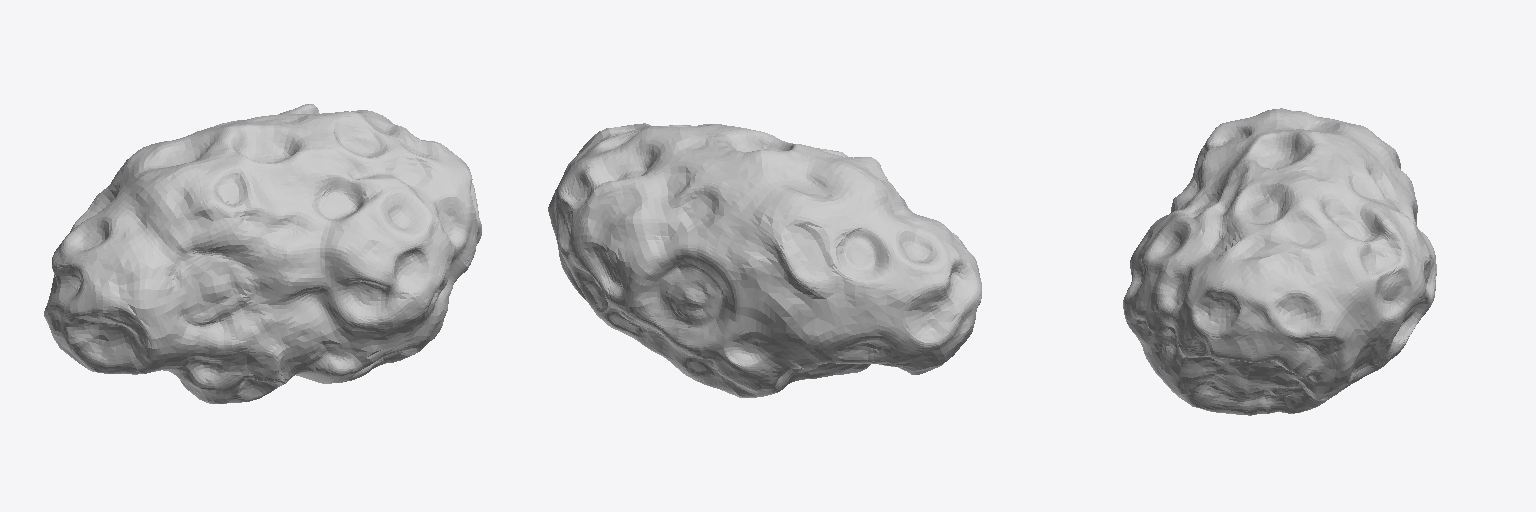
Rendered from asteroidtwo.obj.
The picture shows the model from 3 angles: view 1: azimuth 30°, elevation 25°; view 2: azimuth 150°, elevation 25°; view 3: azimuth 270°, elevation 25°; orthographic projection.
Visible parts, largest first — view 1: obj1.001; view 2: obj1.001; view 3: obj1.001.
Part boxes in pixels (x1,y1,x2,y2): obj1.001: (44,104,481,403); obj1.001: (548,123,981,397); obj1.001: (1123,108,1436,415).
Size of the model in its own units: 8.42 by 4.76 by 5.66.